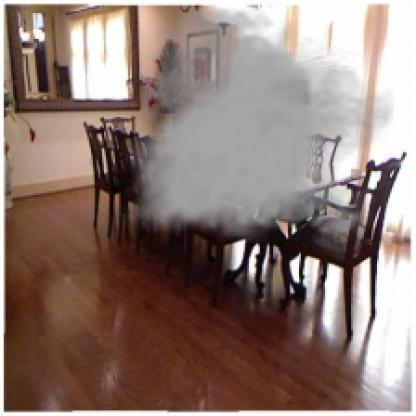smoke: (154, 24, 384, 245)
